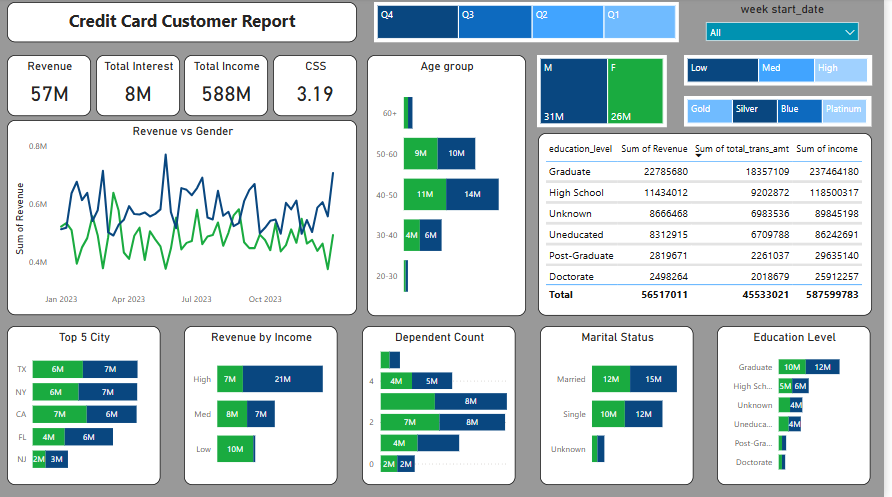

What the dashboard file says about the page in this screenshot:
{"tool":"powerbi","page":{"name":"Credit Card Customer Report","canvas":[1280,720],"ordinal":1},"visuals":[{"type":"textbox","box":[16.2,6.2,503.8,57.5],"z":0},{"type":"tableEx","fields":{"Values":["public cust_detail.education_level","Sum(public cc_detail.Revenue)","Sum(public cc_detail.total_trans_amt)","Sum(public cust_detail.income)"]},"box":[780,194.3,481.4,262.9],"z":2000},{"type":"card","title":"CSS","fields":{"Values":["Avg(public cust_detail.cust_satisfaction_score)"]},"box":[398.8,81.5,121.2,87.5],"z":3000},{"type":"slicer","title":"week start_date","fields":{"Values":["public cc_detail.week_start_date"]},"box":[1012.9,5.7,240,62.9],"z":4000},{"type":"treemap","fields":{"Group":["public cc_detail.qtr"],"Values":["Avg(public cc_detail.client_num)"]},"box":[543.8,6.2,438.8,57.5],"z":5000},{"type":"card","title":"Total Income","fields":{"Values":["Sum(public cust_detail.income)"]},"box":[271.2,81.5,121.2,87.5],"z":6000},{"type":"card","title":"Revenue","fields":{"Values":["Sum(public cc_detail.Revenue)"]},"box":[16.2,81.5,121.2,87.5],"z":7000},{"type":"card","title":"Total Interest","fields":{"Values":["Sum(public cc_detail.interest_earned)"]},"box":[143.8,81.5,121.2,87.5],"z":8000},{"type":"treemap","fields":{"Group":["public cust_detail.gender"],"Values":["Sum(public cc_detail.Revenue)"]},"box":[778.6,81.4,187.1,104.3],"z":9000},{"type":"lineChart","title":"Revenue vs Gender","fields":{"Y":["Sum(public cc_detail.Revenue)"],"Series":["public cust_detail.gender"],"Category":["public cc_detail.week_start_date.Variation.Date Hierarchy.Year","public cc_detail.week_start_date.Variation.Date Hierarchy.Quarter","public cc_detail.week_start_date.Variation.Date Hierarchy.Month","public cc_detail.week_start_date.Variation.Date Hierarchy.Day"]},"box":[15.7,175.7,504.3,281.4],"z":10000},{"type":"barChart","title":"Age group","fields":{"Y":["Sum(public cc_detail.Revenue)"],"Category":["public cust_detail.AgeGroup"],"Series":["public cust_detail.gender"]},"box":[534.3,81.4,228.6,375.7],"z":11000},{"type":"barChart","title":"Top 5 City","fields":{"Y":["Sum(public cc_detail.Revenue)"],"Category":["public cust_detail.state_cd"],"Series":["public cust_detail.gender"]},"box":[15.7,472.9,221.4,228.6],"z":14000},{"type":"treemap","fields":{"Values":["Avg(public cc_detail.client_num)"],"Group":["public cc_detail.card_category"]},"box":[990,141.4,270,44.3],"z":16000},{"type":"treemap","fields":{"Group":["public cust_detail.IncomeGroup"],"Values":["Sum(public cc_detail.client_num)"]},"box":[990,81.4,271.4,44.3],"z":17000},{"type":"barChart","title":"Marital Status","fields":{"Y":["Sum(public cc_detail.Revenue)"],"Series":["public cust_detail.gender"],"Category":["public cust_detail.marital_status"]},"box":[782.9,472.9,221.4,228.6],"z":19000},{"type":"barChart","title":"Revenue by Income","fields":{"Y":["Sum(public cc_detail.Revenue)"],"Series":["public cust_detail.gender"],"Category":["public cust_detail.IncomeGroup"]},"box":[271.4,472.9,221.4,228.6],"z":20000},{"type":"barChart","title":"Dependent Count","fields":{"Y":["Sum(public cc_detail.Revenue)"],"Series":["public cust_detail.gender"],"Category":["public cust_detail.dependent_count"]},"box":[527.1,472.9,221.4,228.6],"z":21000},{"type":"barChart","title":"Education Level","fields":{"Y":["Sum(public cc_detail.Revenue)"],"Series":["public cust_detail.gender"],"Category":["public cust_detail.education_level"]},"box":[1038.6,472.9,221.4,228.6],"z":22000}]}

Visuals, with their boxes in screenshot pixels (x1, y1, x2, y2), scaled from the page's 1280x720 canvas onto the 892x497 screenshot:
textbox: {"x1": 11, "y1": 4, "x2": 362, "y2": 44}
tableEx - public cust_detail.education_level x Sum(public cc_detail.Revenue): {"x1": 544, "y1": 134, "x2": 879, "y2": 316}
"CSS" card: {"x1": 278, "y1": 56, "x2": 362, "y2": 117}
"week start_date" slicer: {"x1": 706, "y1": 4, "x2": 873, "y2": 47}
treemap - public cc_detail.qtr x Avg(public cc_detail.client_num): {"x1": 379, "y1": 4, "x2": 685, "y2": 44}
"Total Income" card: {"x1": 189, "y1": 56, "x2": 273, "y2": 117}
"Revenue" card: {"x1": 11, "y1": 56, "x2": 96, "y2": 117}
"Total Interest" card: {"x1": 100, "y1": 56, "x2": 185, "y2": 117}
treemap - public cust_detail.gender x Sum(public cc_detail.Revenue): {"x1": 543, "y1": 56, "x2": 673, "y2": 128}
"Revenue vs Gender" lineChart: {"x1": 11, "y1": 121, "x2": 362, "y2": 316}
"Age group" barChart: {"x1": 372, "y1": 56, "x2": 532, "y2": 316}
"Top 5 City" barChart: {"x1": 11, "y1": 326, "x2": 165, "y2": 484}
treemap - Avg(public cc_detail.client_num) x public cc_detail.card_category: {"x1": 690, "y1": 98, "x2": 878, "y2": 128}
treemap - public cust_detail.IncomeGroup x Sum(public cc_detail.client_num): {"x1": 690, "y1": 56, "x2": 879, "y2": 87}
"Marital Status" barChart: {"x1": 546, "y1": 326, "x2": 700, "y2": 484}
"Revenue by Income" barChart: {"x1": 189, "y1": 326, "x2": 343, "y2": 484}
"Dependent Count" barChart: {"x1": 367, "y1": 326, "x2": 522, "y2": 484}
"Education Level" barChart: {"x1": 724, "y1": 326, "x2": 878, "y2": 484}
